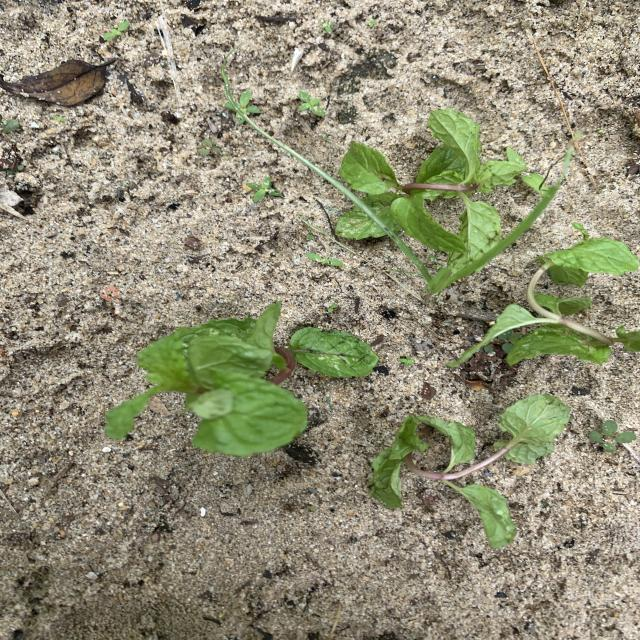crop: (105, 302, 378, 456), (370, 394, 570, 548), (336, 110, 524, 265), (446, 222, 640, 366)
weed: (273, 140, 574, 301), (221, 66, 260, 124), (506, 147, 548, 195), (589, 420, 637, 453), (244, 177, 284, 203), (100, 21, 141, 41), (297, 90, 325, 117), (493, 330, 521, 353), (307, 253, 344, 269), (198, 139, 222, 157), (398, 355, 415, 367), (319, 22, 337, 33), (326, 302, 340, 315), (625, 448, 638, 460), (368, 19, 376, 28)
